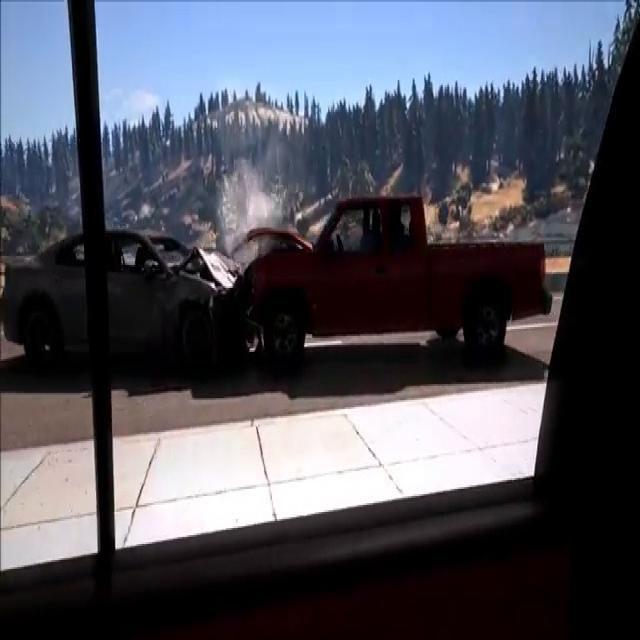moderate: (0, 174, 553, 396)
